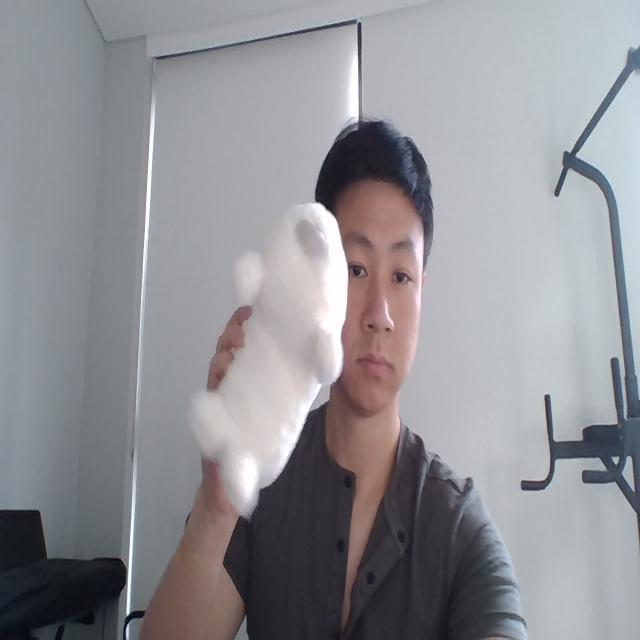seal_bb: (189, 202, 349, 521)
